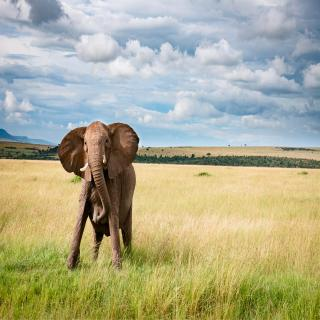Elephant: (54, 117, 146, 278)
